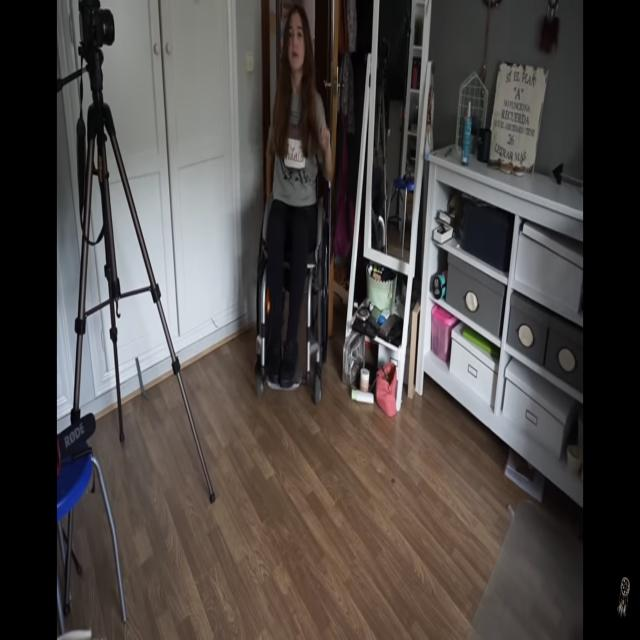wheelchairs: (255, 120, 336, 414)
